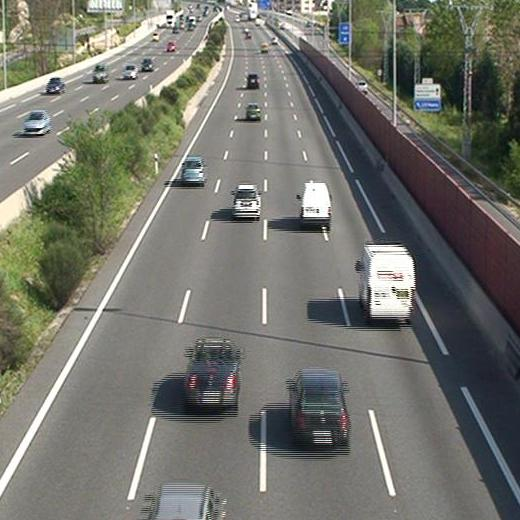car: (293, 372, 350, 448), (184, 345, 239, 408), (231, 183, 261, 219), (180, 158, 204, 184), (245, 103, 261, 121), (246, 73, 258, 88)
van: (360, 243, 415, 324), (300, 183, 331, 225)
